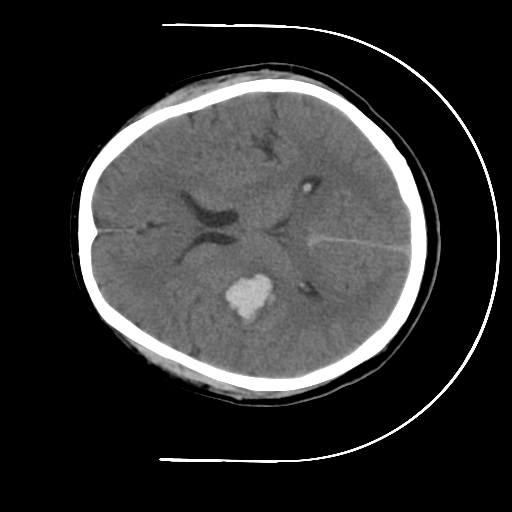a: (212, 262, 283, 333)
